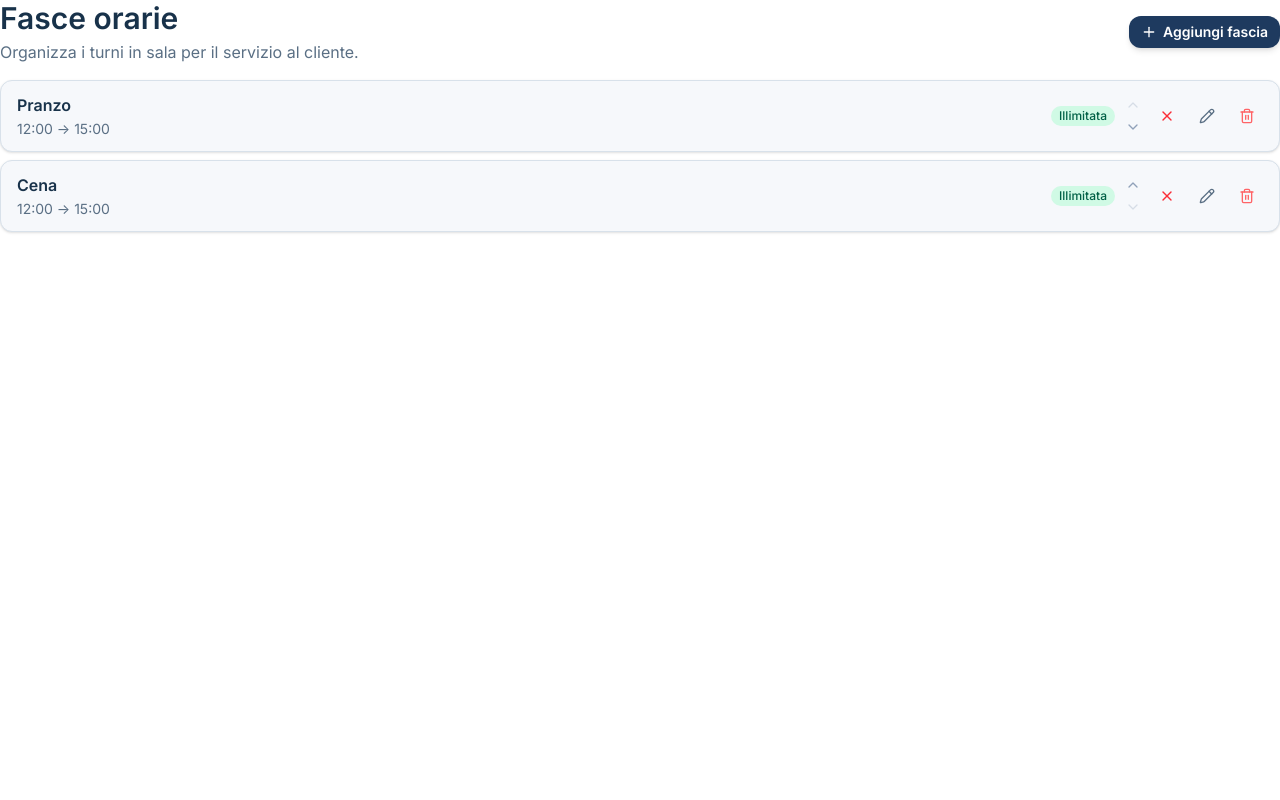
Test: ServiceSlotsManager Pro — riordino manuale fasce › modifica fascia mostra Intervallo di arrivo con valore preset; casella numerica nascosta su valore standard
The width and height of the screenshot is (1280, 800).
Click the button named "modifica pranzo".
click(1207, 116)  # box [1191,100,1223,132]
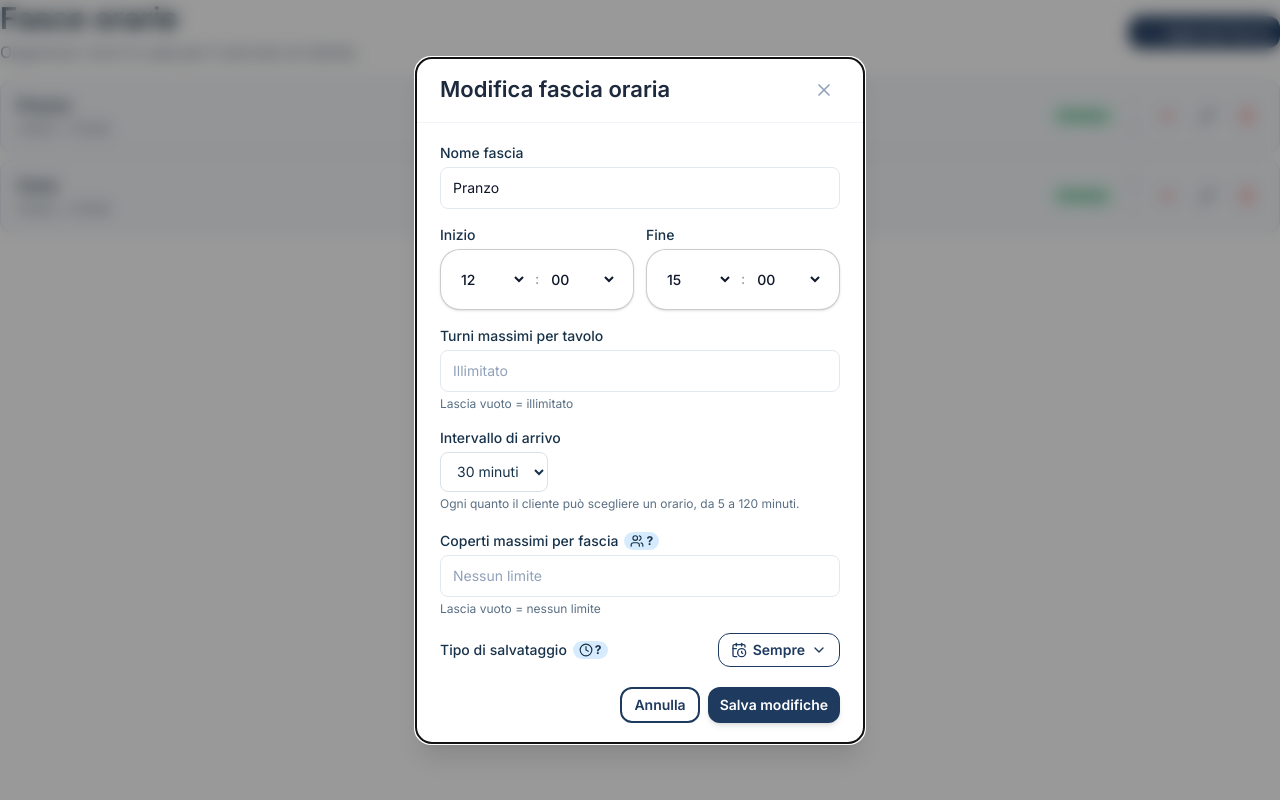
Now the dropdown labelled "Intervallo di arrivo" shows "30 minuti", box [440,452,548,492]
